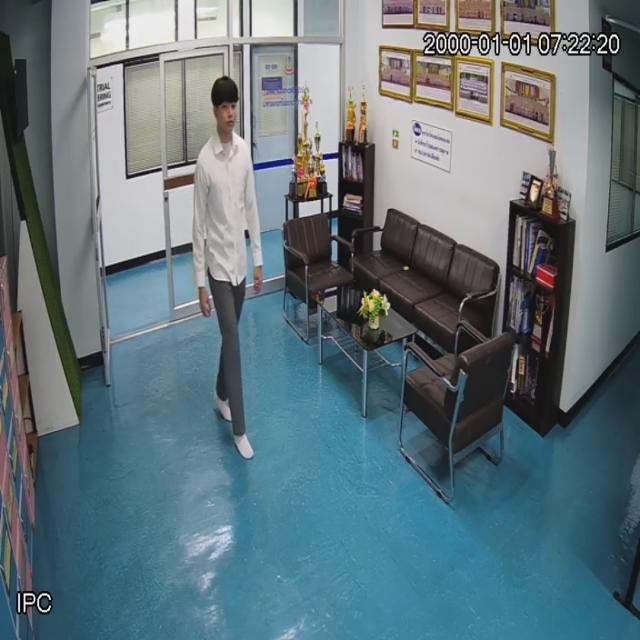normal: (196, 70, 274, 462)
